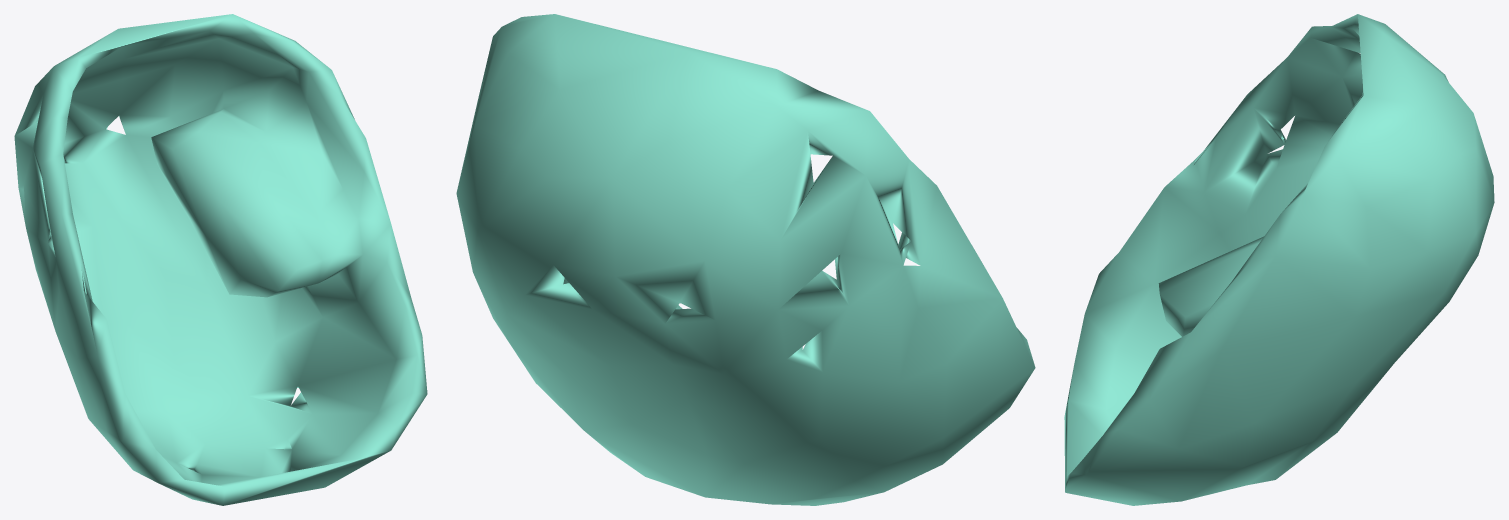
The picture shows the model from 3 angles, left to right: view 1: azimuth 30°, elevation 25°; view 2: azimuth 150°, elevation 25°; view 3: azimuth 270°, elevation 25°; orthographic projection. The views are drawn at different scales.
Parts seen in each view (by area): view 1: 접어 세운 패브릭; view 2: 접어 세운 패브릭; view 3: 접어 세운 패브릭.
Part boxes in pixels (x1,y1,x2,y2): 접어 세운 패브릭: [14, 14, 427, 505]; 접어 세운 패브릭: [456, 14, 1035, 505]; 접어 세운 패브릭: [1064, 14, 1494, 505].
Bounding box in the file's own units: 38.55 × 45.07 × 41.07.
